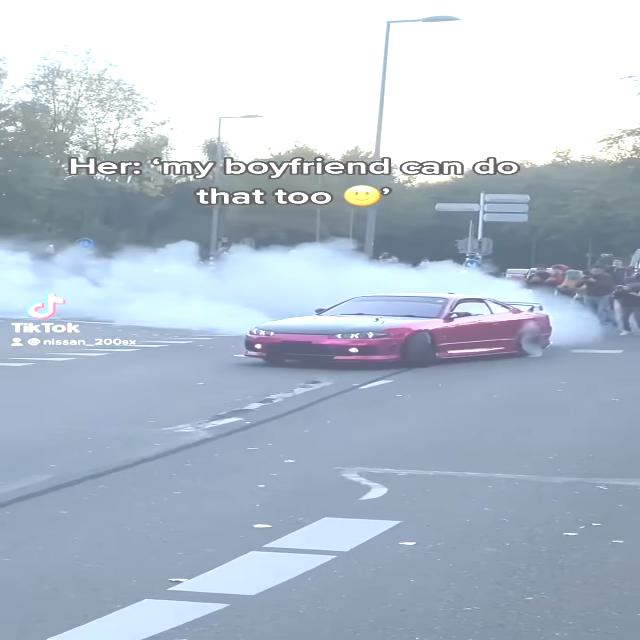car: (238, 293, 557, 374)
